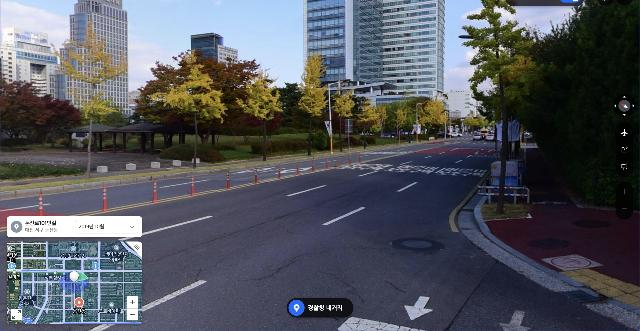ginkgo: (52, 20, 128, 179), (149, 63, 229, 170), (235, 67, 284, 162), (296, 52, 330, 157), (332, 88, 358, 152), (355, 100, 382, 150), (419, 96, 448, 141), (391, 102, 414, 144)
other: (522, 5, 640, 219)
